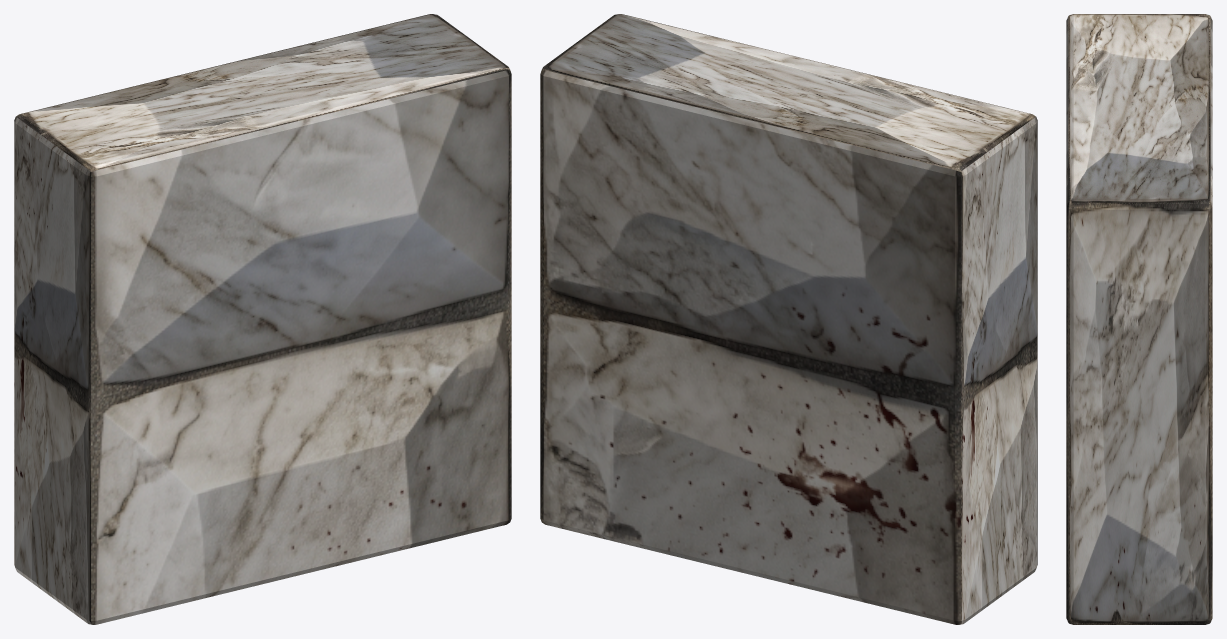
File: balustrade_vault_end_LOD2.glb
The picture shows the model from 3 angles, left to right: view 1: azimuth 30°, elevation 25°; view 2: azimuth 150°, elevation 25°; view 3: azimuth 270°, elevation 25°; orthographic projection. The views are drawn at different scales.
Parts seen in each view (by area): view 1: LOD2_EndBarrier; view 2: LOD2_EndBarrier; view 3: LOD2_EndBarrier.
Boxes of the visible parts, bbox=[...] form: LOD2_EndBarrier: bbox=[14, 14, 511, 624]; LOD2_EndBarrier: bbox=[540, 14, 1037, 624]; LOD2_EndBarrier: bbox=[1066, 14, 1212, 624].
Bounding box in the file's own units: 1.24 × 1.28 × 0.4.
Materials: 1 (1 with a texture image).
